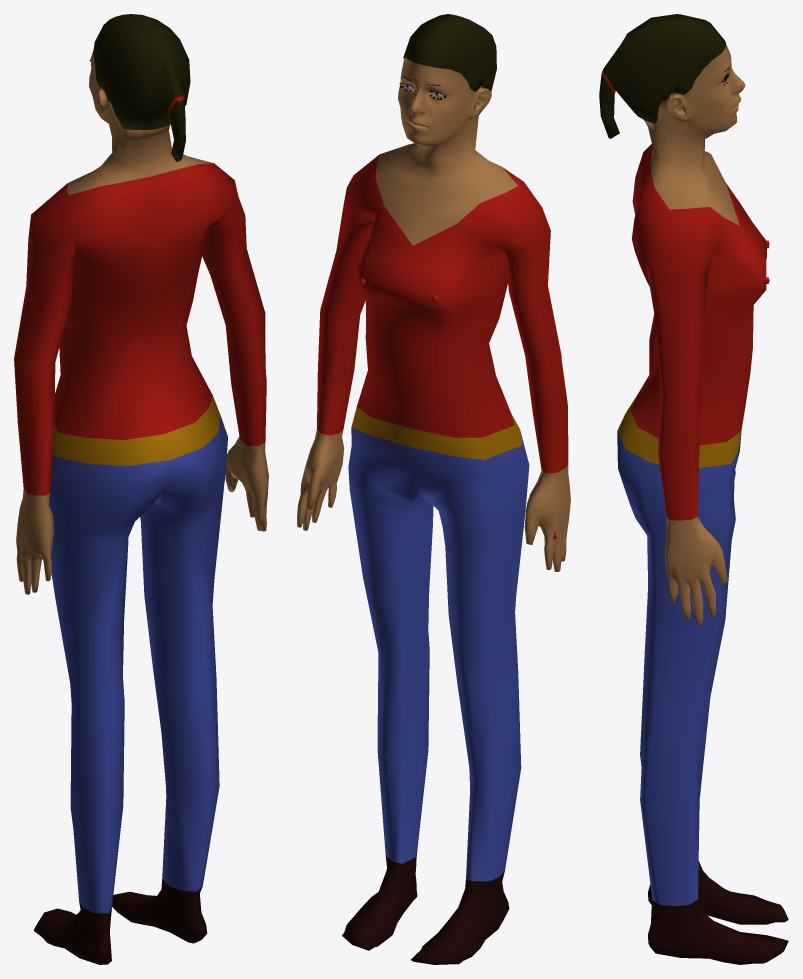
Rendered from personstand_000007.obj.
3 renders of one model, left to right at view 1: azimuth 30°, elevation 25°; view 2: azimuth 150°, elevation 25°; view 3: azimuth 270°, elevation 25°, orthographic. The views are drawn at different scales.
Visible parts, largest first — view 1: Cube; view 2: Cube; view 3: Cube.
Boxes of the visible parts, x1,y1,x2,y2 form: Cube: (14,14,268,964); Cube: (297,14,570,964); Cube: (599,14,788,964).
Bounding box in the file's own units: 27.35 × 94.76 × 17.74.
